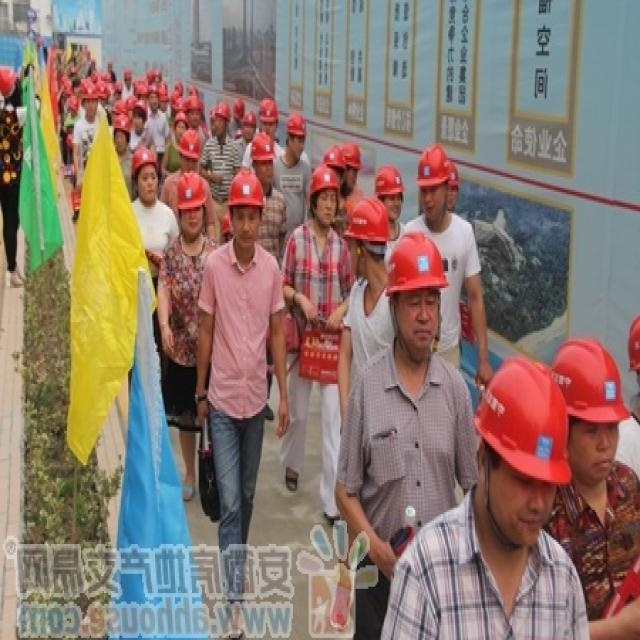Con_Casco: (385, 235, 445, 356)
Sin_Chaleco: (474, 361, 569, 537), (206, 243, 281, 409)
